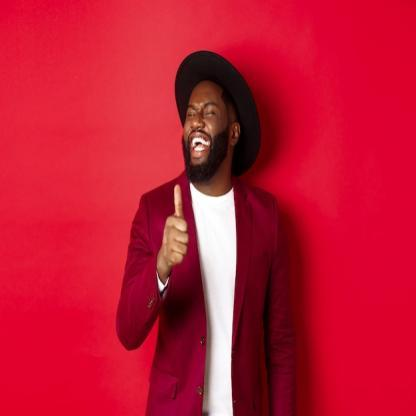thumb_up: (158, 181, 192, 273)
